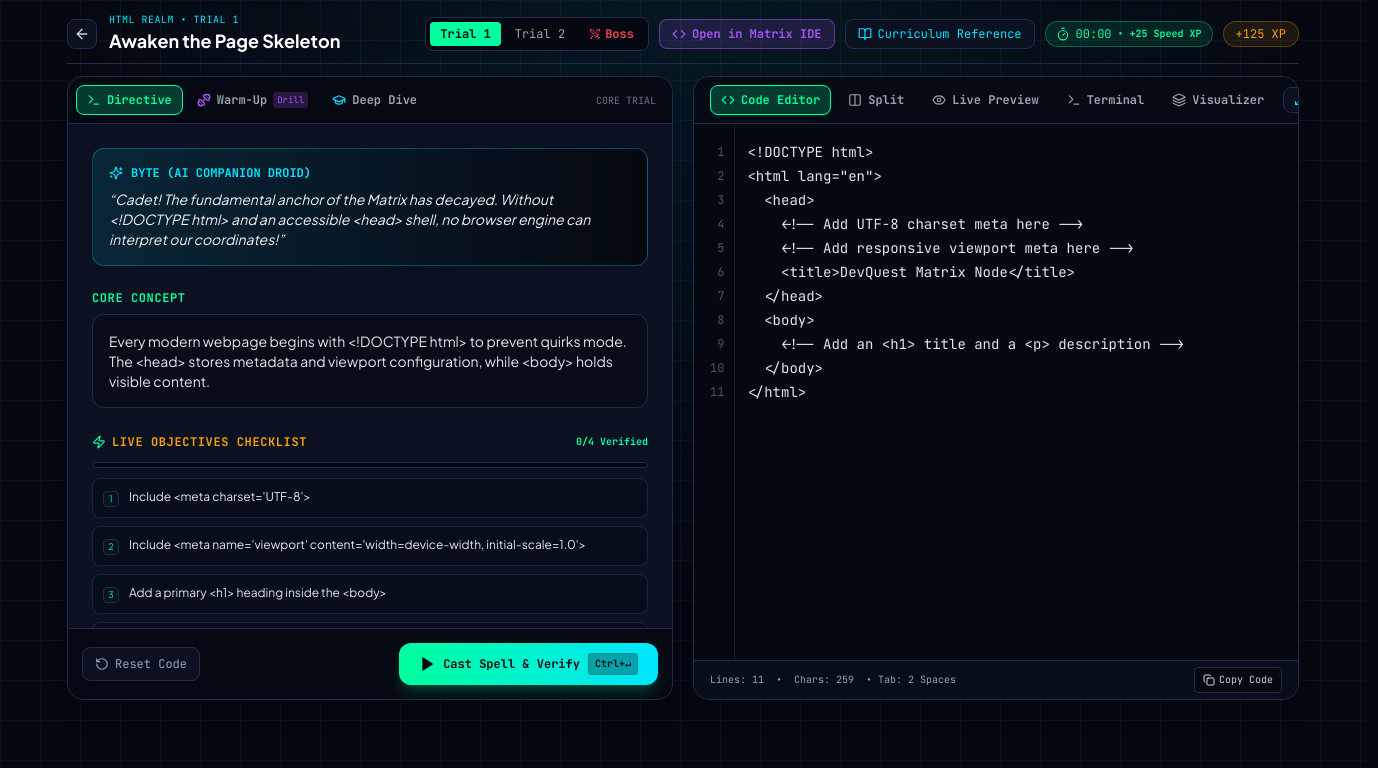
Scenario: QuestCodingWorkspace Component › resets modified code back to starterCode when Reset Code is clicked
Replace the text in the text box named "quest solution code editor" with "broken code to reset" at (1017, 392), box [735,124,1298,660]
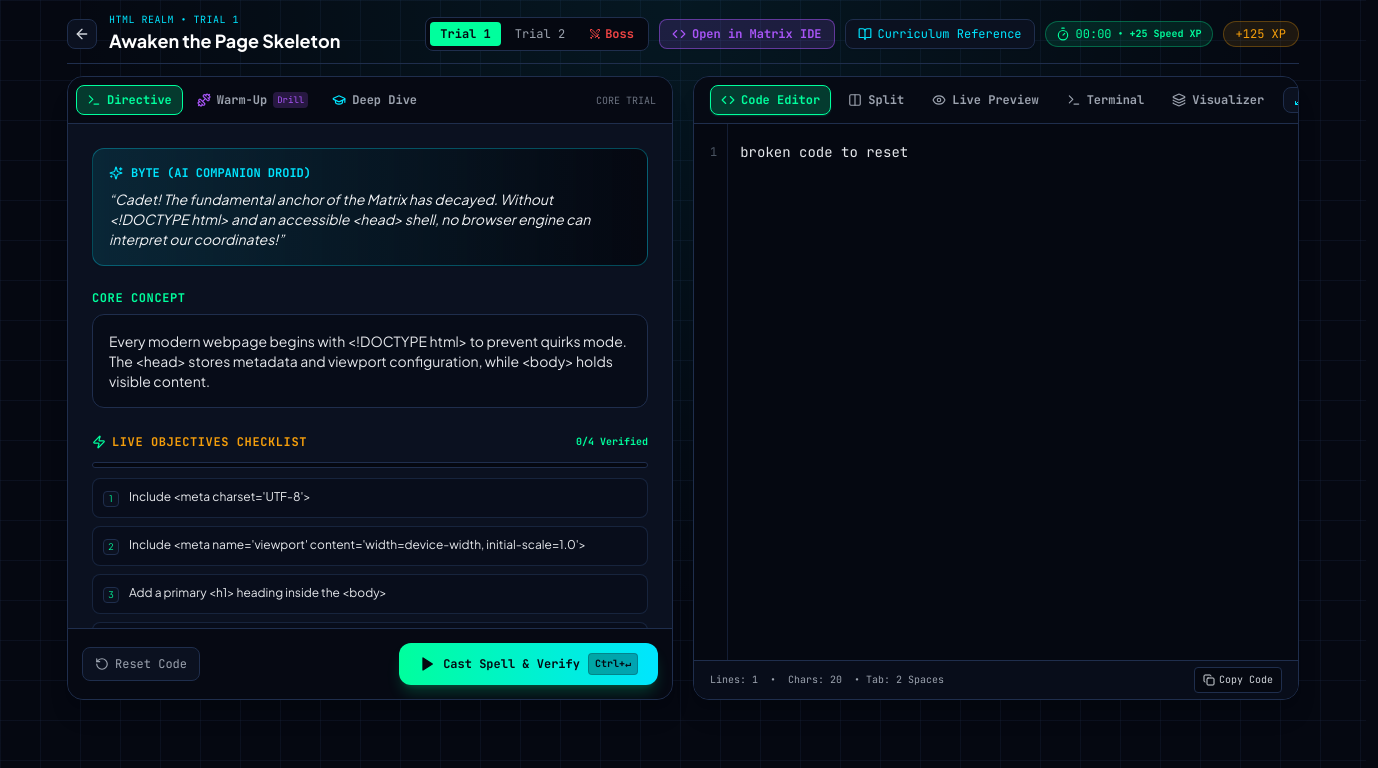
Click the button "Reset Code" at (141, 664), box [82,647,200,681]
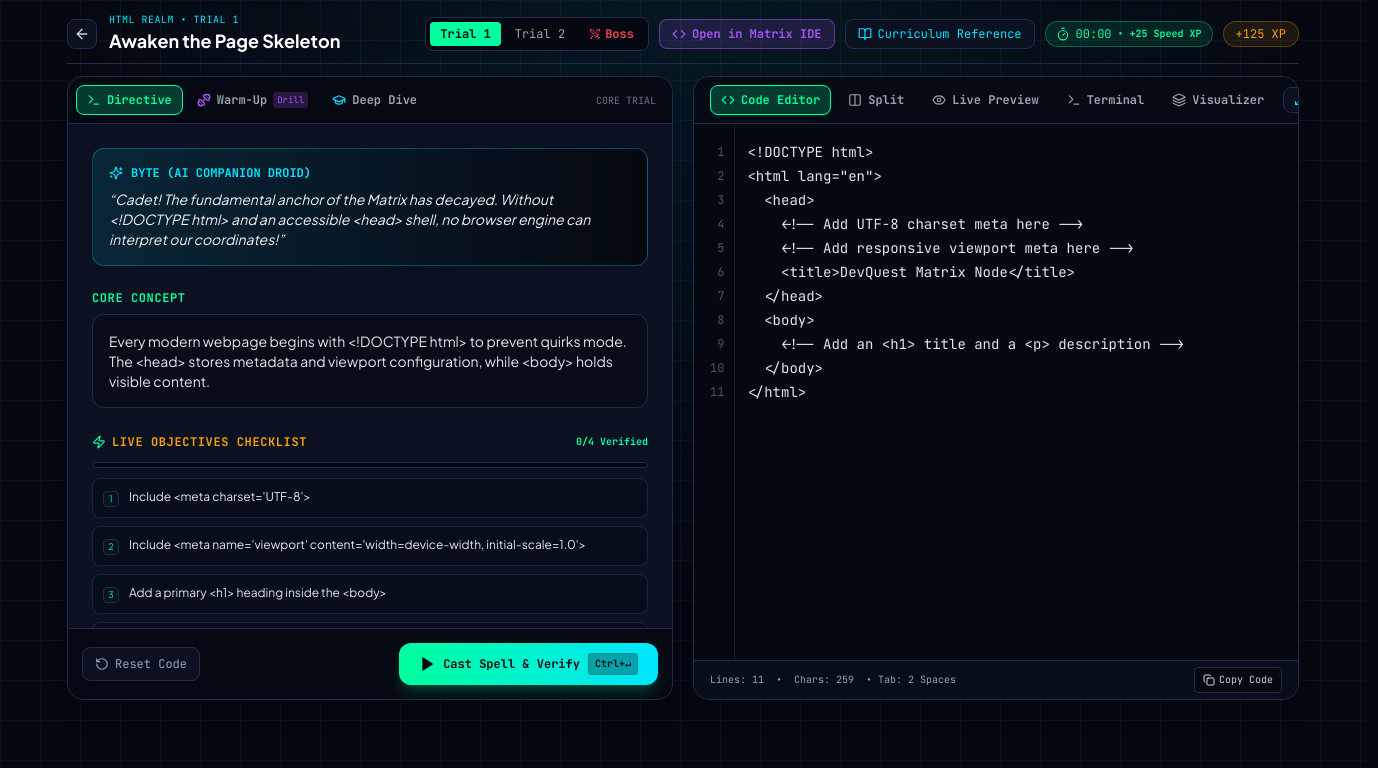
Expected: the text box named "quest solution code editor" holds "<!DOCTYPE html> <html lang=\"en\">   <head>     <!-- Add UTF-8 charset meta here -->     <!-- Add responsive viewport meta here -->     <title>DevQuest Matrix Nod", [735,124,1298,660]
